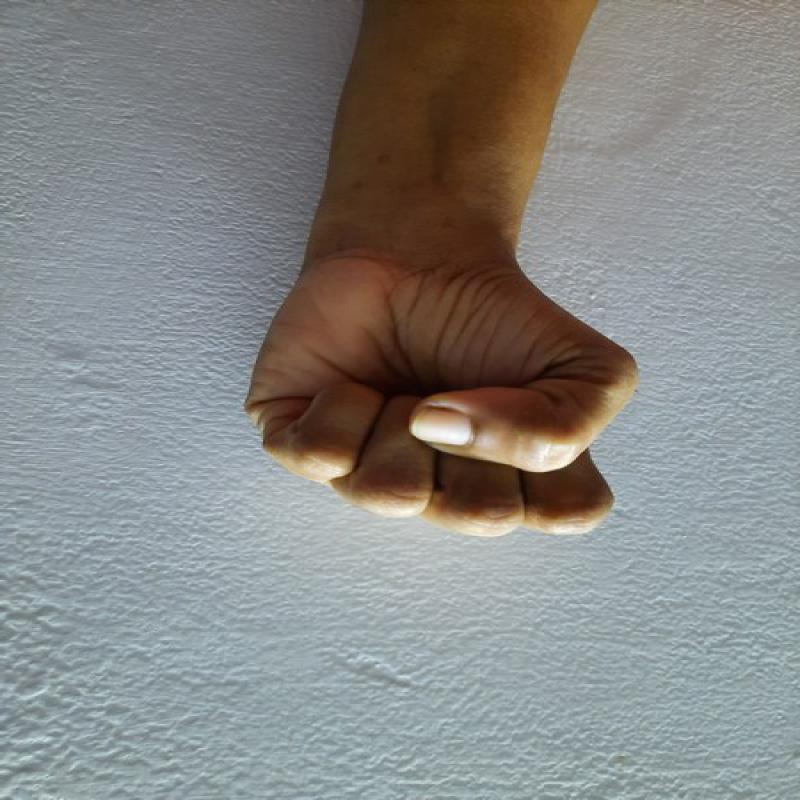Mushti: (240, 253, 652, 553)
